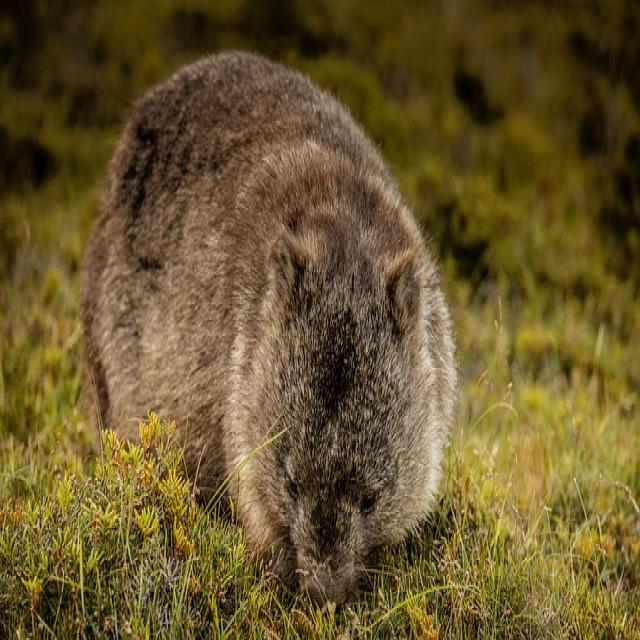Wombat: (87, 50, 459, 616)
